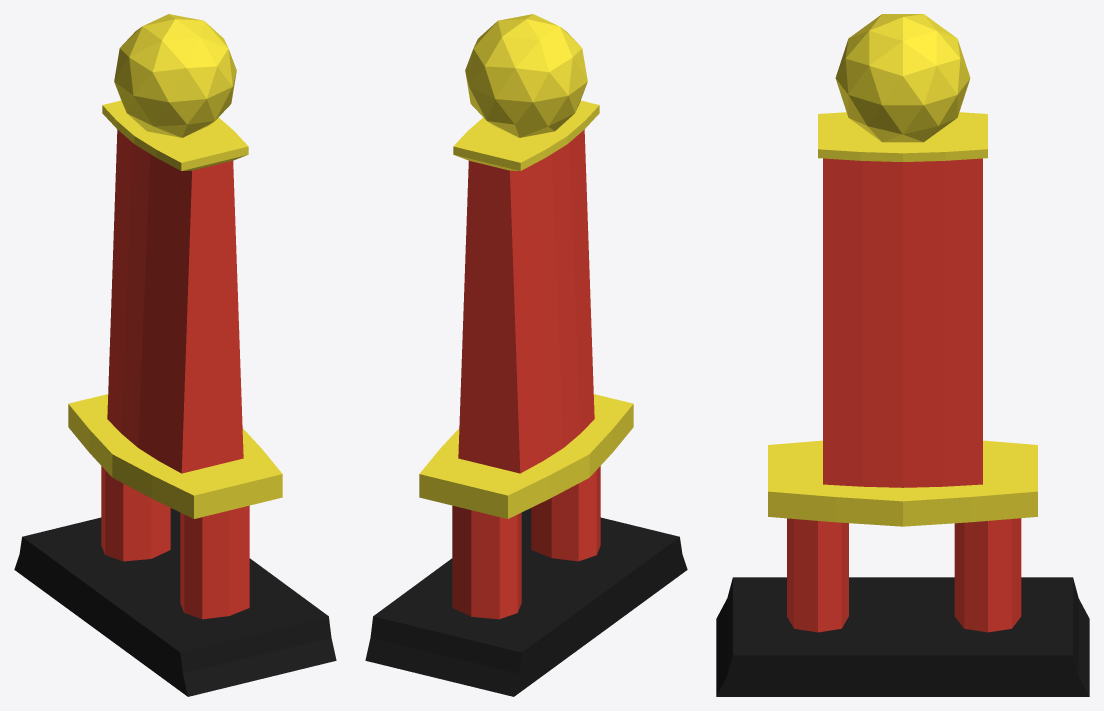
The model's file is Trophy.glb.
The picture shows the model from 3 angles, left to right: view 1: azimuth 30°, elevation 25°; view 2: azimuth 150°, elevation 25°; view 3: azimuth 270°, elevation 25°; orthographic projection. The views are drawn at different scales.
Visible parts, largest first — view 1: Trophy_Cube.024; view 2: Trophy_Cube.024; view 3: Trophy_Cube.024.
Part boxes in pixels (box(x1,y1,x2,y2)): Trophy_Cube.024: box(14, 14, 336, 696); Trophy_Cube.024: box(365, 14, 687, 696); Trophy_Cube.024: box(716, 14, 1089, 696).
Bounding box in the file's own units: 3.97 × 15.17 × 8.01.
